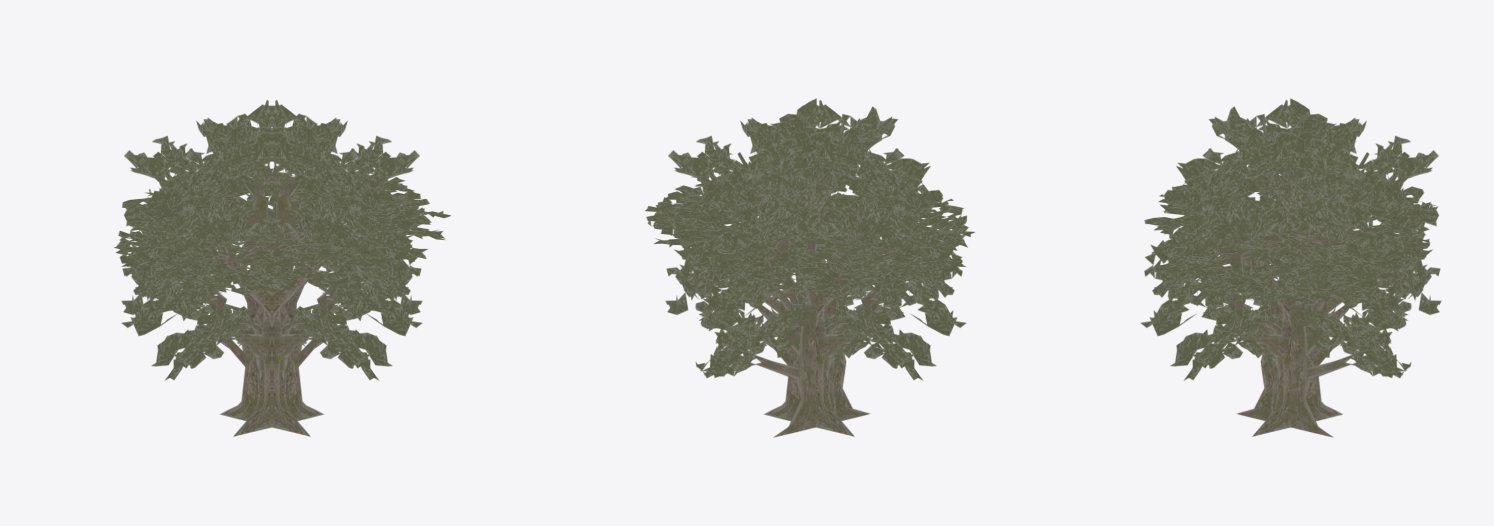
Rendered from broadleaf-cards.glb.
3 renders of one model, left to right at view 1: azimuth 30°, elevation 25°; view 2: azimuth 150°, elevation 25°; view 3: azimuth 270°, elevation 25°, orthographic.
Visible parts, largest first — view 1: cards; view 2: cards; view 3: cards.
Boxes of the visible parts, box(x1,y1,x2,y2) form: cards: box(114, 100, 450, 436); cards: box(645, 98, 975, 437); cards: box(1140, 98, 1441, 437).
Bounding box in the file's own units: 12.48 × 12.48 × 12.48.
1 material, 1 textured.
